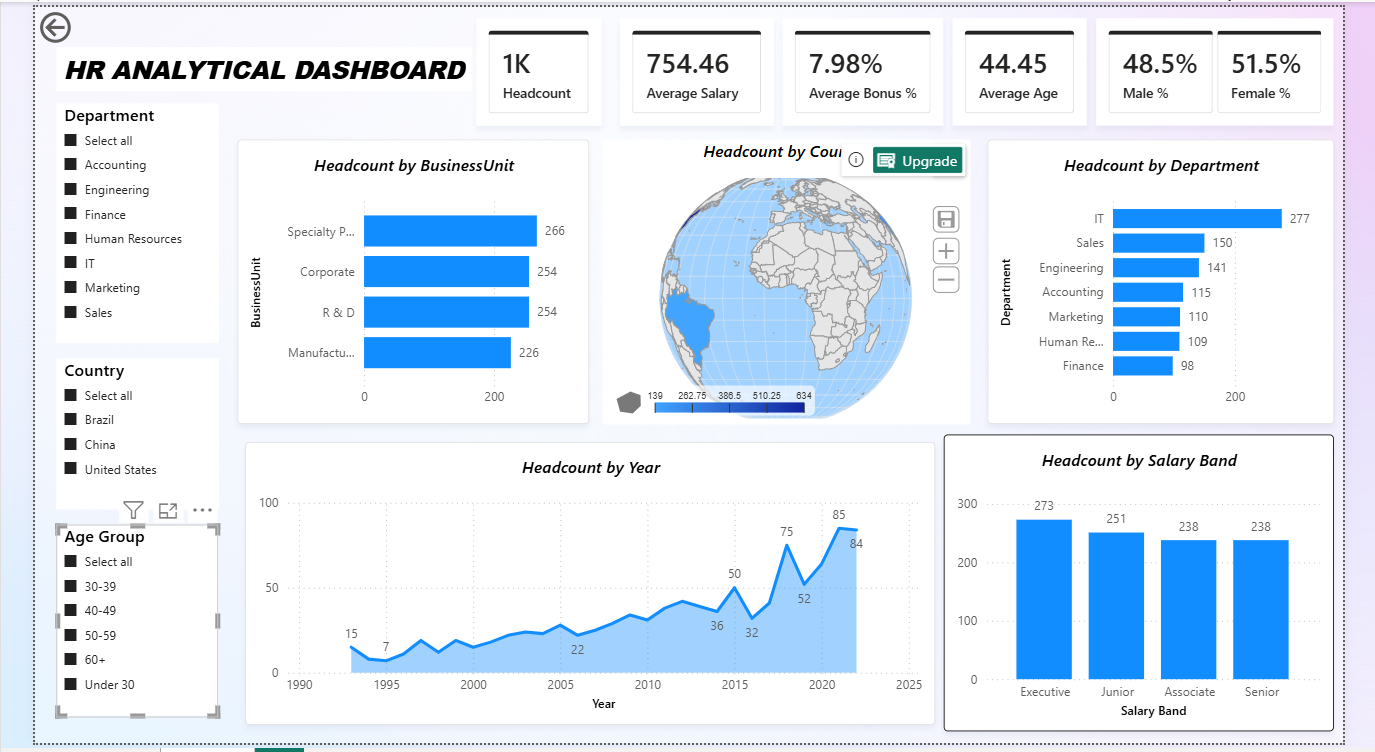

This screenshot's page, from the dashboard's own definition file:
{"tool":"powerbi","page":{"name":"Page 1","canvas":[1280,720],"ordinal":0},"visuals":[{"type":"textbox","box":[21.1,39.7,406.1,43.5],"z":0},{"type":"cardVisual","fields":{"Data":["Employee Data.Headcount"]},"box":[432.1,11.2,122.9,105.5],"z":1},{"type":"cardVisual","fields":{"Data":["Employee Data.Male %","Employee Data.Female %"]},"box":[1038.1,11.2,232.2,105.5],"z":2},{"type":"cardVisual","fields":{"Data":["Employee Data.Average Age"]},"box":[897.8,11.2,131.6,105.5],"z":3},{"type":"cardVisual","fields":{"Data":["Employee Data.Average Bonus %"]},"box":[731.4,11.2,157.7,105.5],"z":4},{"type":"cardVisual","fields":{"Data":["Employee Data.Average Salary"]},"box":[572.5,11.2,150.3,105.5],"z":5},{"type":"barChart","fields":{"Category":["Employee Data.BusinessUnit"],"Y":["Employee Data.Headcount"]},"box":[198.7,129.1,344,278.2],"z":7},{"type":"slicer","fields":{"Values":["Employee Data.Department"]},"box":[21.1,94.4,158.9,234.7],"z":8},{"type":"actionButton","box":[0,0,100,40],"z":9},{"type":"slicer","fields":{"Values":["Employee Data.Country"]},"box":[21.1,344,158.9,147.8],"z":10},{"type":"clusteredColumnChart","fields":{"Category":["Employee Data.Salary Band"],"Y":["Employee Data.Headcount"]},"box":[889,418.2,381.2,290.6],"z":12},{"type":"maps","fields":{"measure":["Employee Data.Headcount"],"country":["Employee Data.Country"]},"box":[555.1,129.1,358.9,278.2],"z":13},{"type":"clusteredBarChart","fields":{"Category":["Employee Data.Department"],"Y":["Employee Data.Headcount"]},"box":[931.3,129.1,339,278.2],"z":14},{"type":"slicer","fields":{"Values":["Employee Data.Age Group"]},"box":[21.1,506.6,158.9,187.5],"z":15},{"type":"lineChart","fields":{"Category":["Calendar.Year"],"Y":["Employee Data.Headcount"]},"box":[204.9,425.9,675.5,276.9],"z":16}]}

Visuals, with their boxes in screenshot pixels (x1, y1, x2, y2), scaled from the page's 1280x720 canvas onto the 1375x752 screenshot:
textbox: [left=23, top=41, right=459, bottom=87]
cardVisual - Employee Data.Headcount: [left=464, top=12, right=596, bottom=122]
cardVisual - Employee Data.Male % x Employee Data.Female %: [left=1115, top=12, right=1365, bottom=122]
cardVisual - Employee Data.Average Age: [left=964, top=12, right=1106, bottom=122]
cardVisual - Employee Data.Average Bonus %: [left=786, top=12, right=955, bottom=122]
cardVisual - Employee Data.Average Salary: [left=615, top=12, right=776, bottom=122]
barChart - Employee Data.BusinessUnit x Employee Data.Headcount: [left=213, top=135, right=583, bottom=425]
slicer - Employee Data.Department: [left=23, top=99, right=193, bottom=344]
actionButton: [left=0, top=0, right=107, bottom=42]
slicer - Employee Data.Country: [left=23, top=359, right=193, bottom=514]
clusteredColumnChart - Employee Data.Salary Band x Employee Data.Headcount: [left=955, top=437, right=1364, bottom=740]
maps - Employee Data.Headcount x Employee Data.Country: [left=596, top=135, right=982, bottom=425]
clusteredBarChart - Employee Data.Department x Employee Data.Headcount: [left=1000, top=135, right=1365, bottom=425]
slicer - Employee Data.Age Group: [left=23, top=529, right=193, bottom=725]
lineChart - Calendar.Year x Employee Data.Headcount: [left=220, top=445, right=946, bottom=734]
